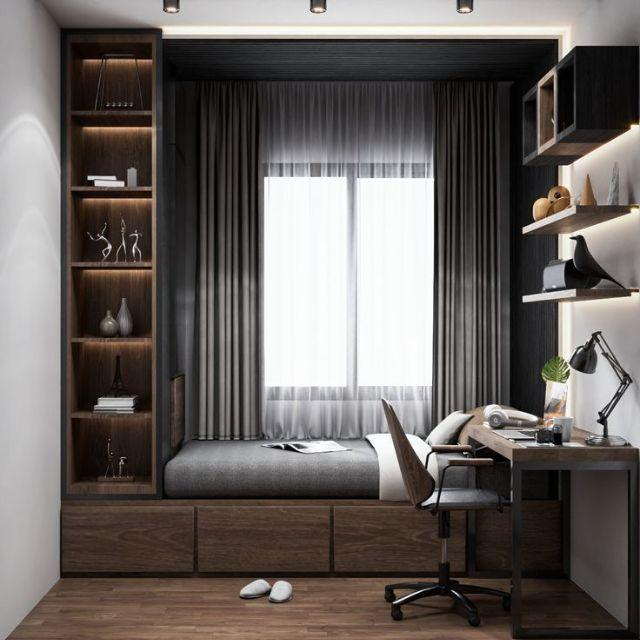bed: (157, 418, 475, 504)
chair: (380, 396, 512, 628)
lamp: (569, 328, 635, 448)
table: (466, 406, 637, 636)
window: (262, 166, 433, 393)
